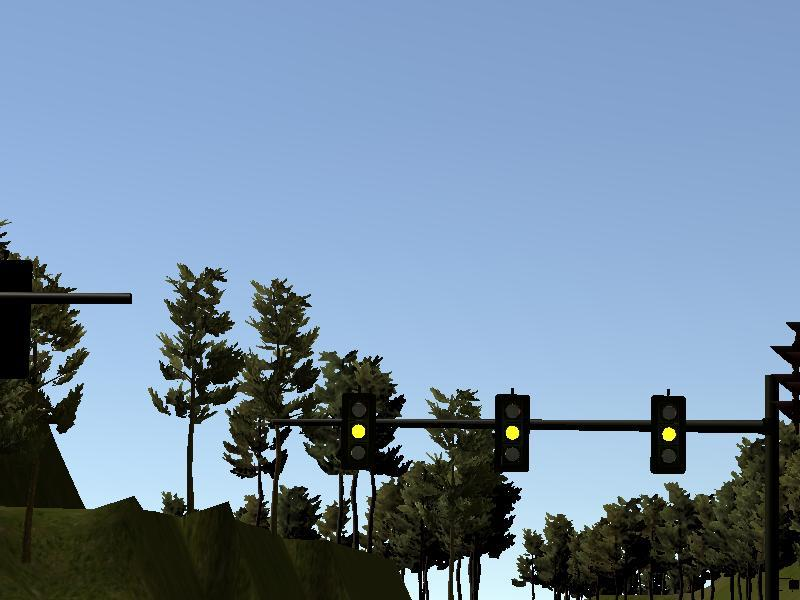Yellow: (651, 395, 686, 473), (495, 394, 529, 471), (342, 393, 375, 468)
